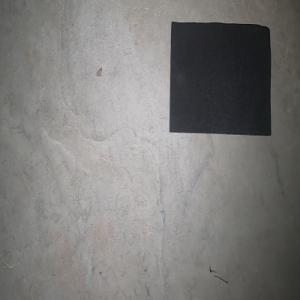PaintChip: (169, 21, 271, 135)
